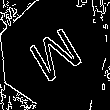M_SE: (20, 21, 86, 87)
